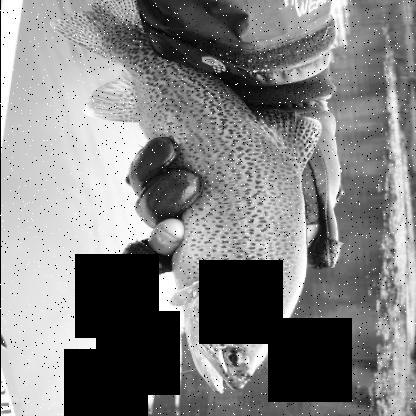fish: (46, 0, 328, 392)
